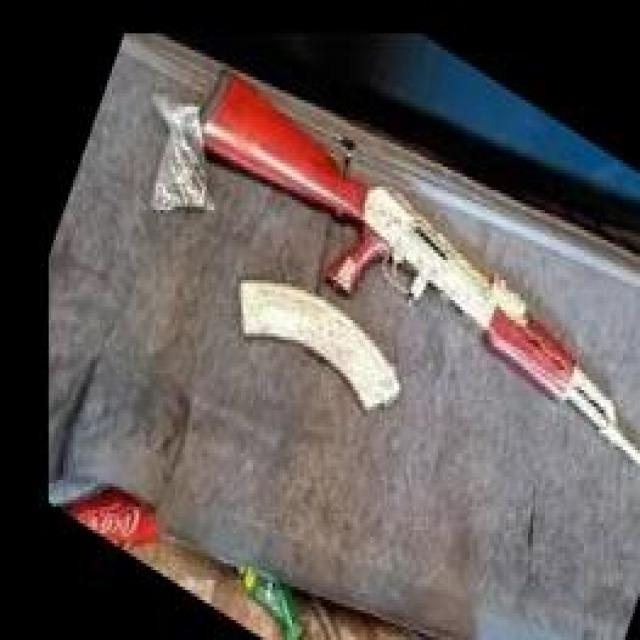weapon: (183, 66, 640, 466)
